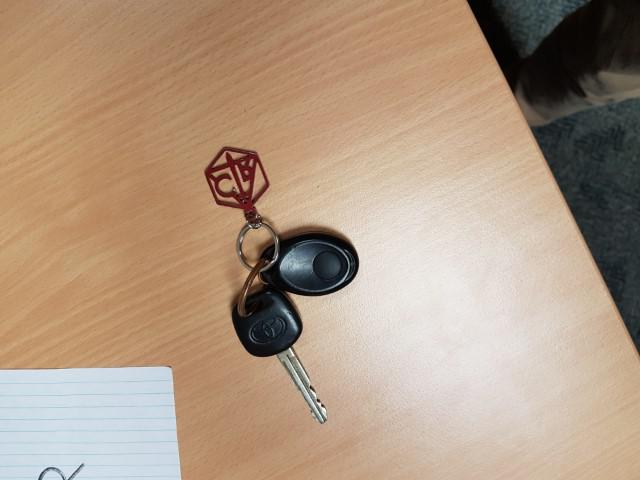key: (218, 282, 333, 426)
